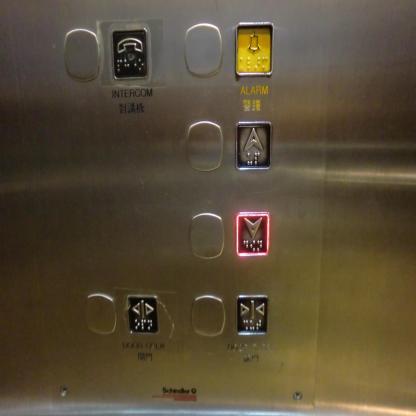alarm: (234, 20, 274, 78)
call: (110, 26, 150, 80)
close: (235, 294, 269, 336)
down: (235, 211, 269, 256)
open: (126, 294, 159, 335)
up: (235, 121, 272, 171)
